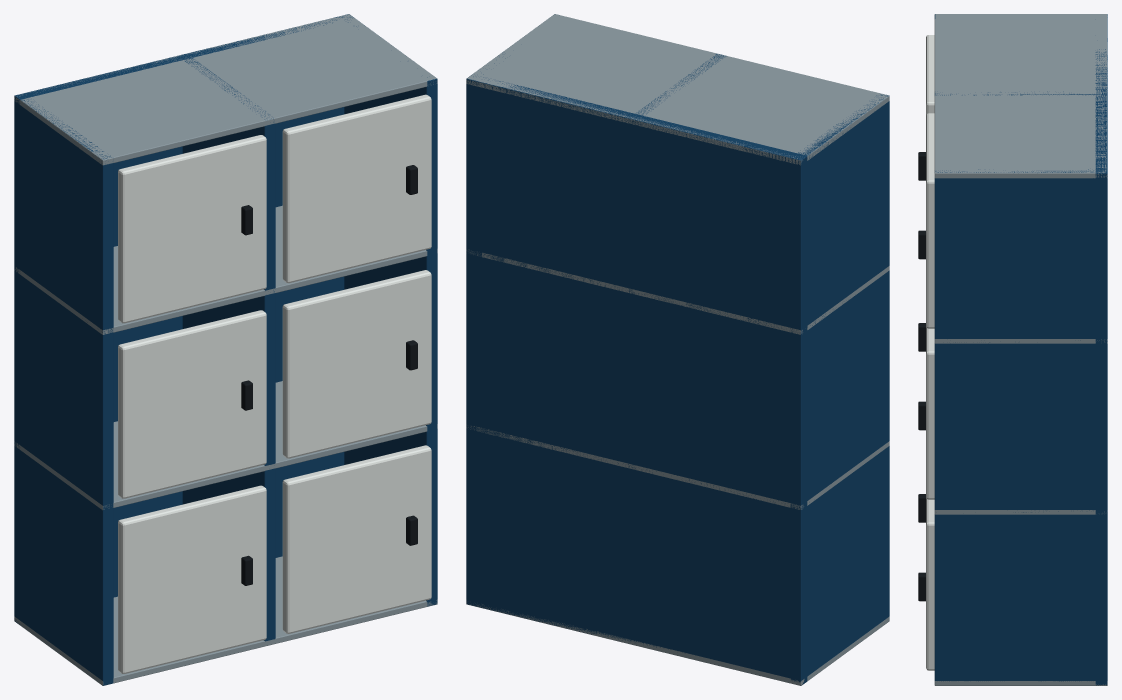
3 views of the same model, side by side, from view 1: azimuth 30°, elevation 25°; view 2: azimuth 150°, elevation 25°; view 3: azimuth 270°, elevation 25° (orthographic). The views are drawn at different scales.
Parts seen in each view (by area): view 1: FRAME_Upright, FRAME_Shelf.003, LOCKER_Door.005, LOCKER_Door.003, LOCKER_Door.004, LOCKER_Door.001, LOCKER_Door.002, LOCKER_Door, FRAME_Back, FRAME_Upright.001, FRAME_Upright.002, FRAME_Shelf (+2 smaller); view 2: FRAME_Back, FRAME_Upright, FRAME_Shelf.003, FRAME_Upright.001, FRAME_Upright.002, FRAME_Shelf.002, FRAME_Shelf.001, FRAME_Shelf; view 3: FRAME_Upright.002, FRAME_Shelf.003, FRAME_Back, LOCKER_Door.005, LOCKER_Door.003, LOCKER_Door.004, FRAME_Shelf, FRAME_Shelf.002, FRAME_Shelf.001, LOCKER_Door.002.
Boxes of the visible parts, x1=… form: FRAME_Upright: x1=15, y1=95, x2=113, y2=685; FRAME_Shelf.003: x1=14, y1=14, x2=437, y2=165; LOCKER_Door.005: x1=282, y1=94, x2=431, y2=283; LOCKER_Door.003: x1=282, y1=445, x2=431, y2=633; LOCKER_Door.004: x1=282, y1=270, x2=431, y2=458; LOCKER_Door.001: x1=118, y1=310, x2=266, y2=498; LOCKER_Door.002: x1=118, y1=135, x2=266, y2=323; LOCKER_Door: x1=118, y1=485, x2=266, y2=673; FRAME_Back: x1=14, y1=14, x2=353, y2=624; FRAME_Upright.001: x1=178, y1=54, x2=275, y2=641; FRAME_Upright.002: x1=344, y1=21, x2=437, y2=606; FRAME_Shelf: x1=14, y1=556, x2=437, y2=685; FRAME_Back: x1=466, y1=74, x2=807, y2=684; FRAME_Upright: x1=790, y1=94, x2=889, y2=682; FRAME_Shelf.003: x1=466, y1=14, x2=889, y2=165; FRAME_Upright.001: x1=628, y1=54, x2=726, y2=636; FRAME_Upright.002: x1=466, y1=52, x2=505, y2=604; FRAME_Shelf.002: x1=466, y1=249, x2=889, y2=334; FRAME_Shelf.001: x1=466, y1=426, x2=889, y2=509; FRAME_Shelf: x1=466, y1=600, x2=889, y2=685; FRAME_Upright.002: x1=934, y1=169, x2=1106, y2=681; FRAME_Shelf.003: x1=934, y1=14, x2=1107, y2=178; FRAME_Back: x1=1095, y1=14, x2=1107, y2=685; LOCKER_Door.005: x1=926, y1=113, x2=934, y2=328; LOCKER_Door.003: x1=926, y1=497, x2=934, y2=670; LOCKER_Door.004: x1=926, y1=326, x2=934, y2=499; FRAME_Shelf: x1=934, y1=681, x2=1107, y2=685; FRAME_Shelf.002: x1=934, y1=339, x2=1107, y2=343; FRAME_Shelf.001: x1=934, y1=510, x2=1104, y2=514; LOCKER_Door.002: x1=926, y1=35, x2=934, y2=115.
Size of the model in its own units: 1.2 by 1.8 by 0.6025.
